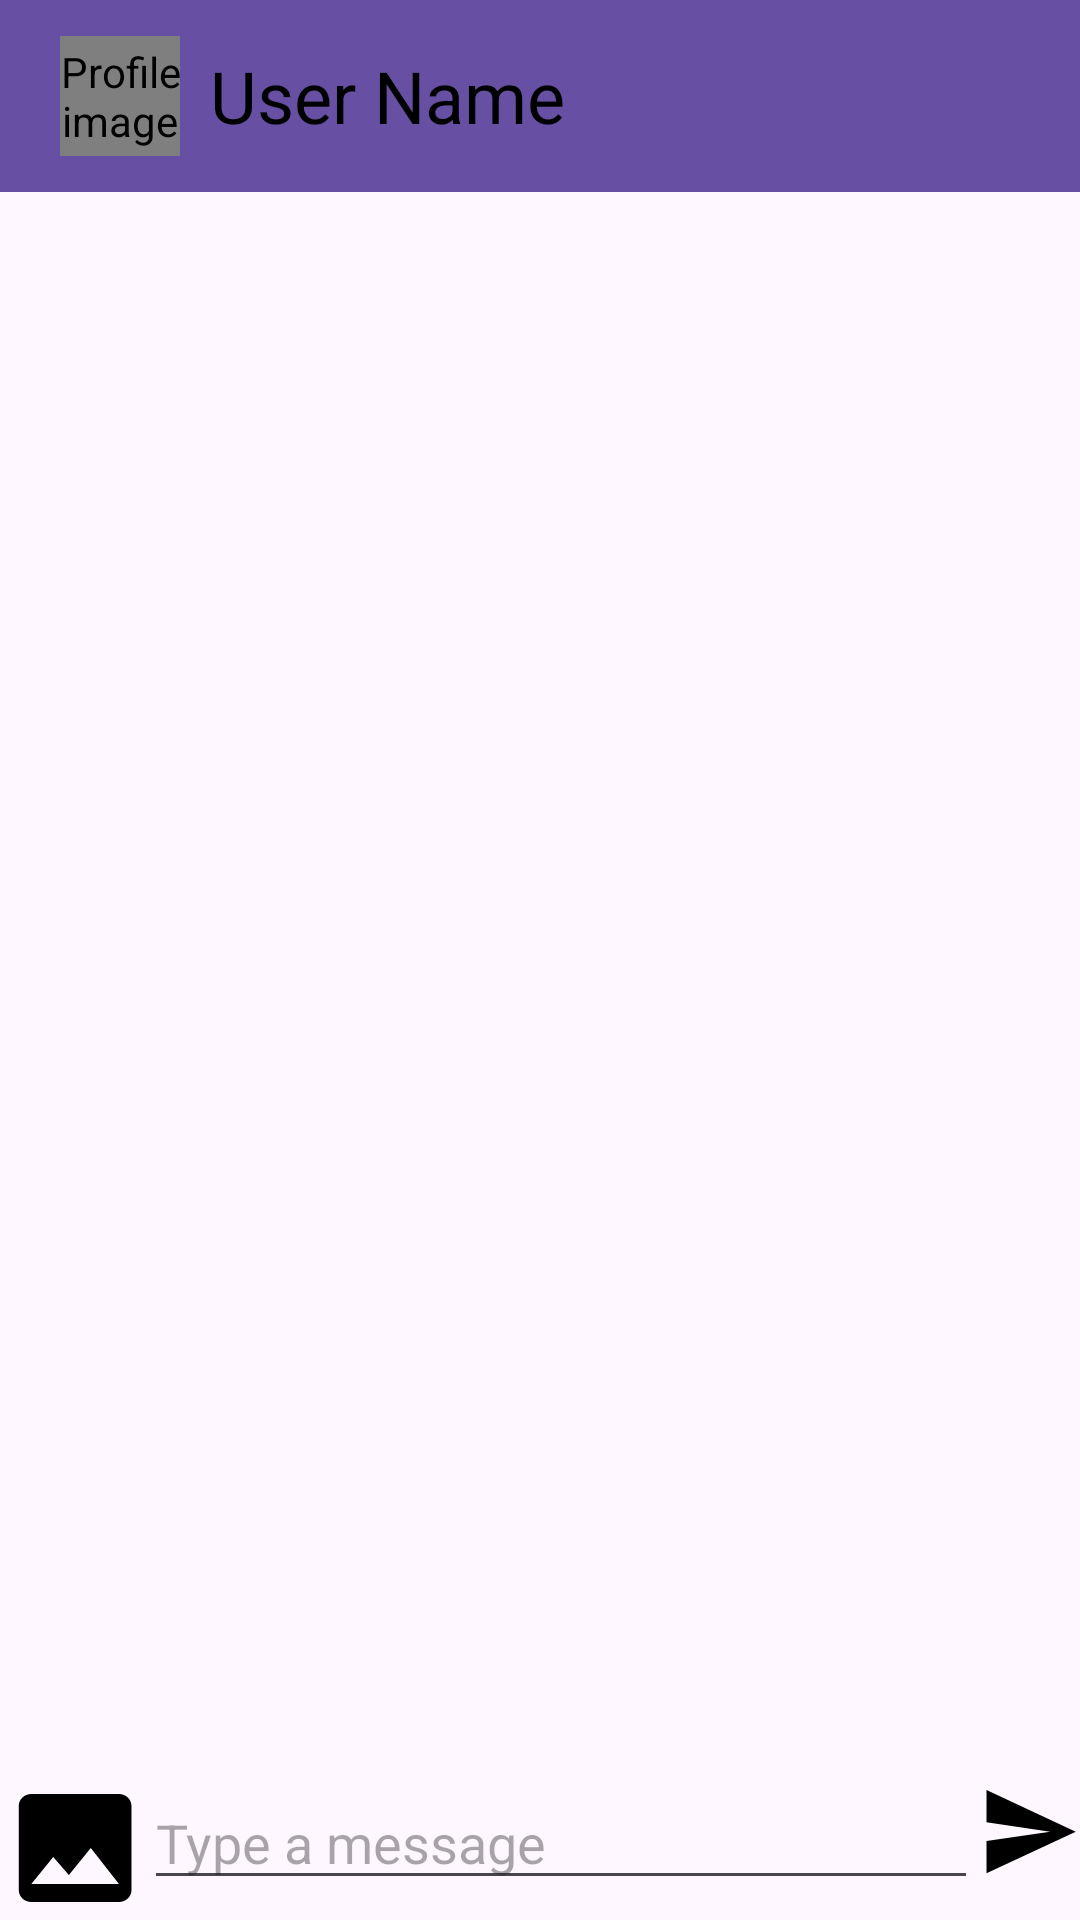

Where to tap for icons on this 1080×1920 app screen, as [x,y]:
sendbutton: [1031,1831]
